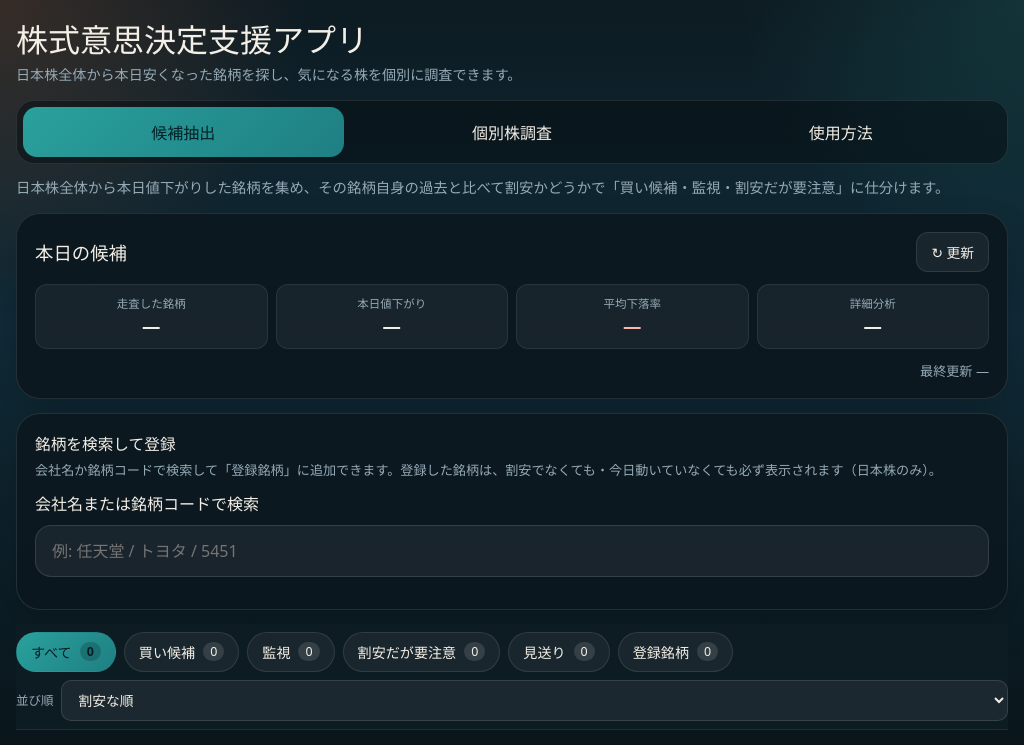
Scenario: App › 実行状況のバッジは日本語ラベルで表示する
Step 1. Click the tab "個別株調査" → (512, 132), box top-left (352, 107), bottom-right (672, 157)
(page scrolled)
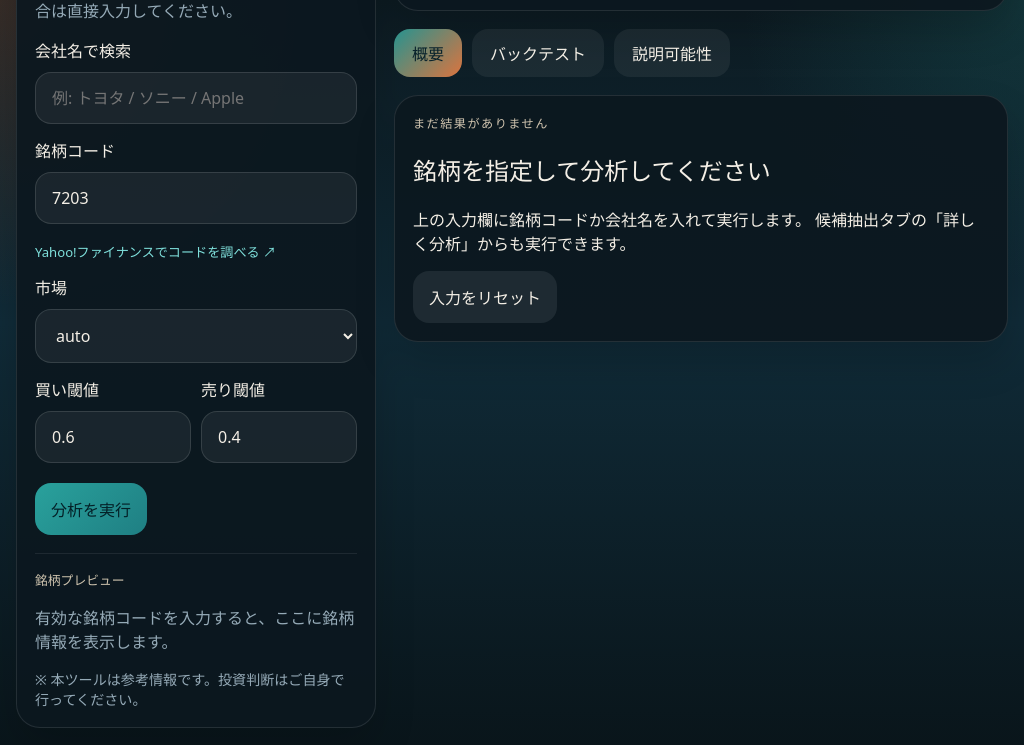
Step 2. Click the button "分析を実行" → (91, 509), box top-left (35, 483), bottom-right (147, 535)
(page scrolled)
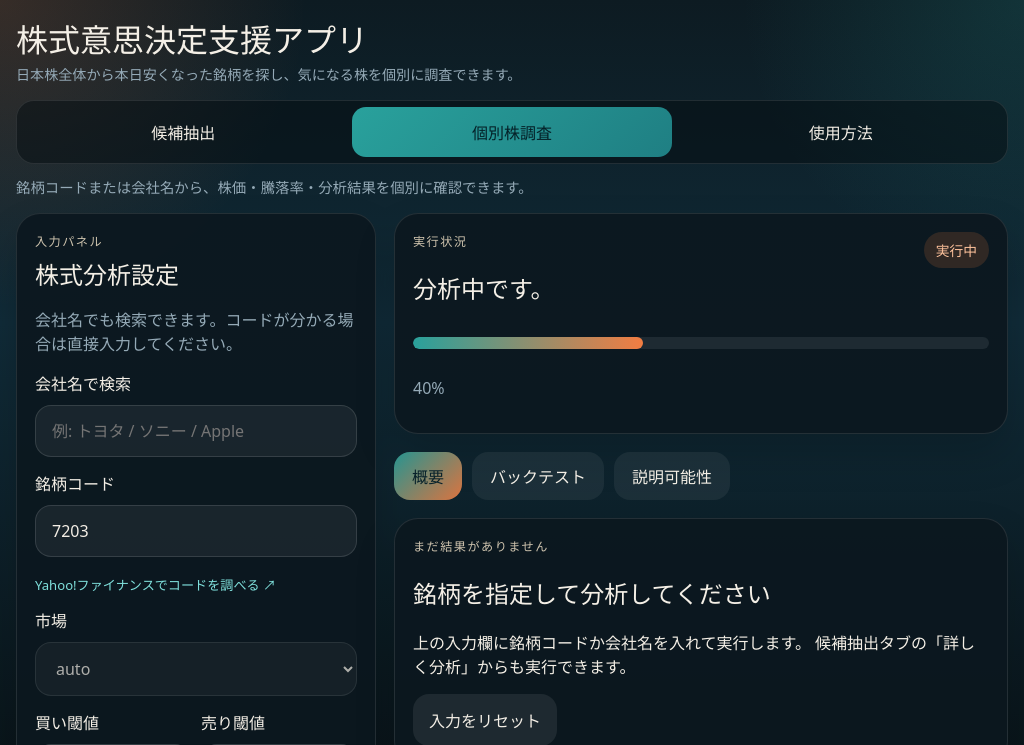
Expected: the text "実行中" is shown, top-left (924, 232), bottom-right (989, 268)
